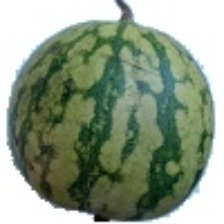watermelon: (29, 12, 167, 169)
